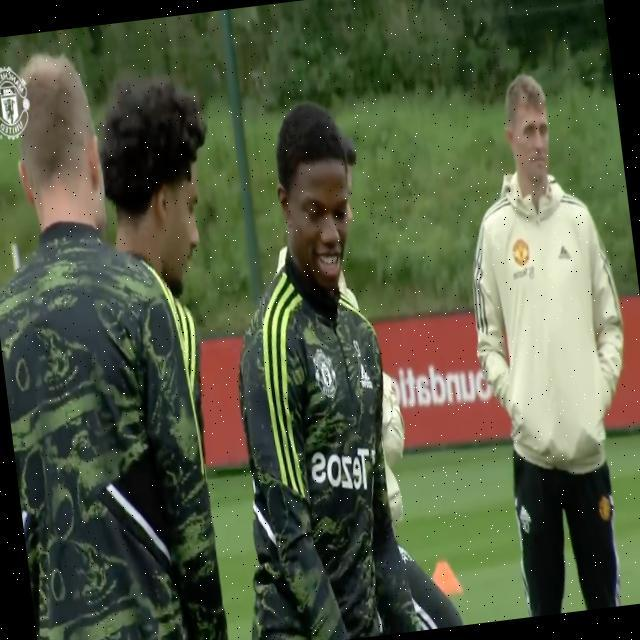Adidas: (354, 359, 373, 394), (557, 241, 573, 264)
